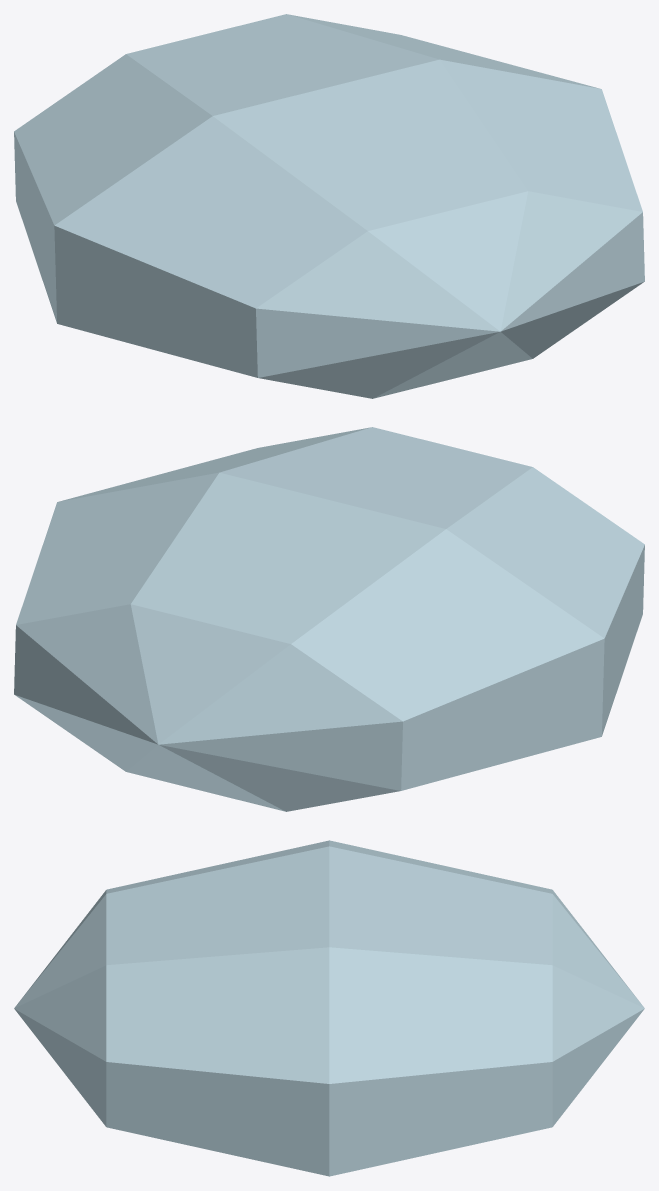
Rendered from UFO.glb.
3 views of the same model, one above another, from view 1: azimuth 30°, elevation 25°; view 2: azimuth 150°, elevation 25°; view 3: azimuth 270°, elevation 25° (orthographic). The views are drawn at different scales.
Visible parts, largest first — view 1: UFO | archived geometry; view 2: UFO | archived geometry; view 3: UFO | archived geometry.
Part boxes in pixels (x1=…): UFO | archived geometry: x1=14, y1=14, x2=644, y2=398; UFO | archived geometry: x1=14, y1=427, x2=644, y2=811; UFO | archived geometry: x1=14, y1=840, x2=644, y2=1176.
Bounding box in the file's own units: 20.78 × 8.67 × 22.38.
